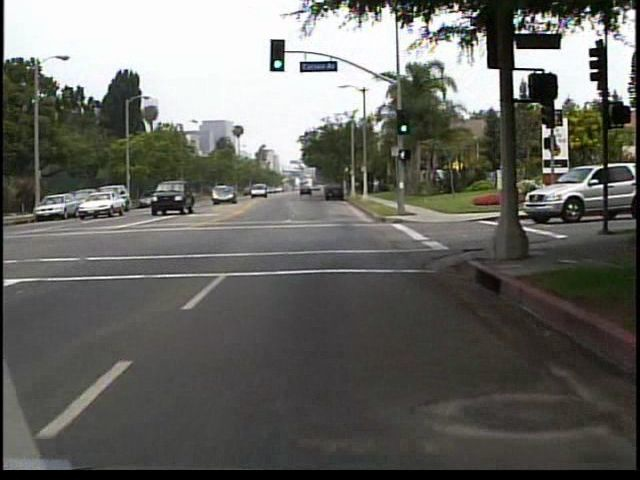person: (364, 175, 373, 198), (373, 174, 381, 194)
